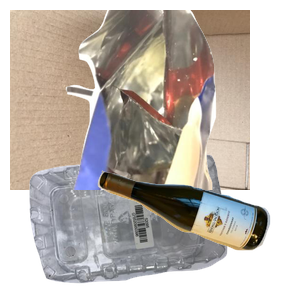cardboard: (10, 10, 250, 190)
glass: (95, 168, 300, 300)
plastic: (27, 152, 247, 300)
trash: (63, 10, 300, 190)
